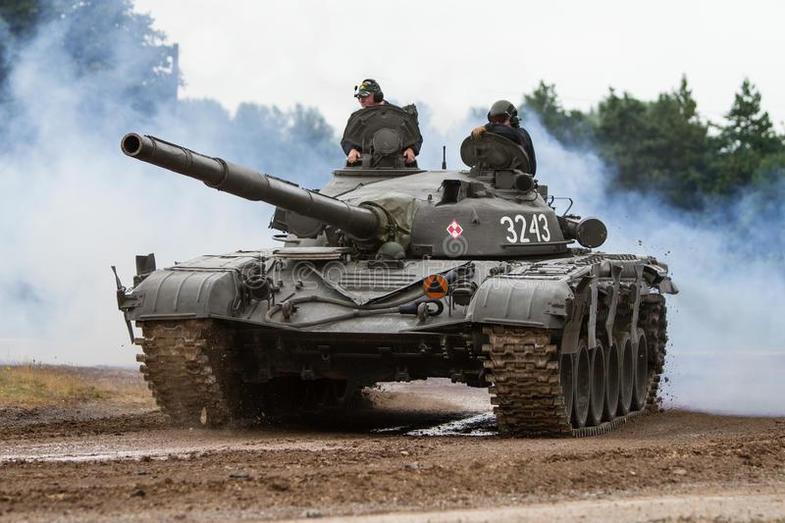t72: (111, 130, 679, 433)
